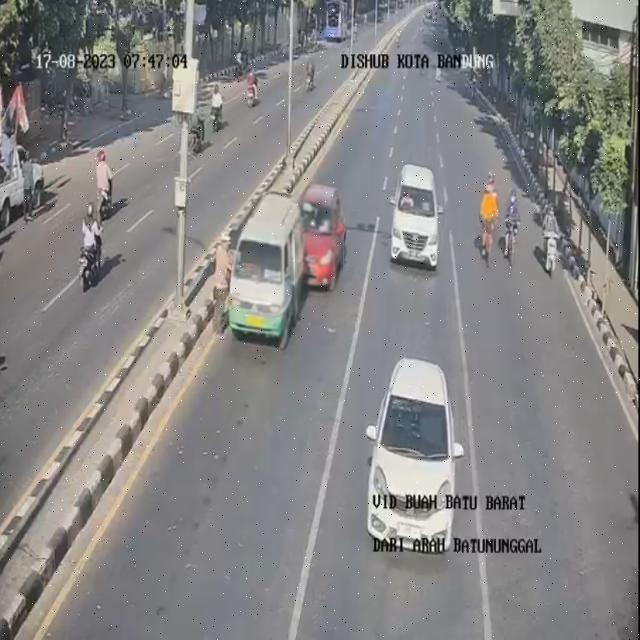cars: (361, 358, 462, 560), (232, 195, 306, 355), (295, 176, 343, 296), (391, 162, 438, 274)
motorcycle: (480, 170, 501, 266), (541, 198, 561, 275), (502, 192, 521, 263)
